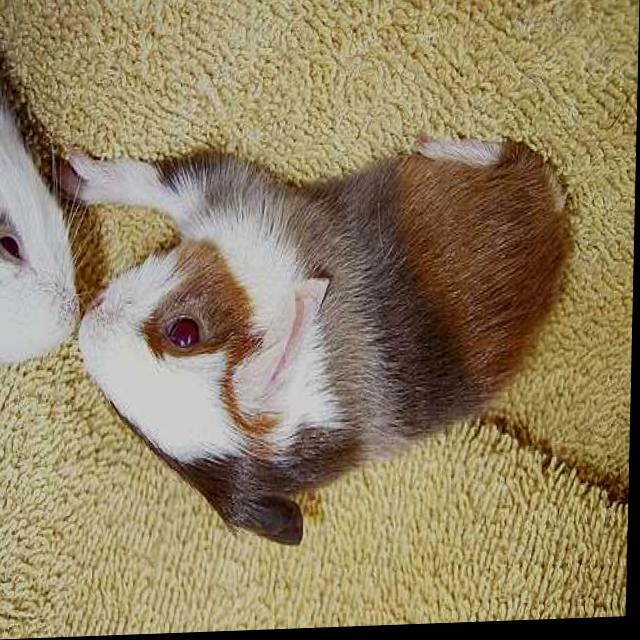guinea pig: (66, 137, 579, 552), (0, 84, 80, 370)
